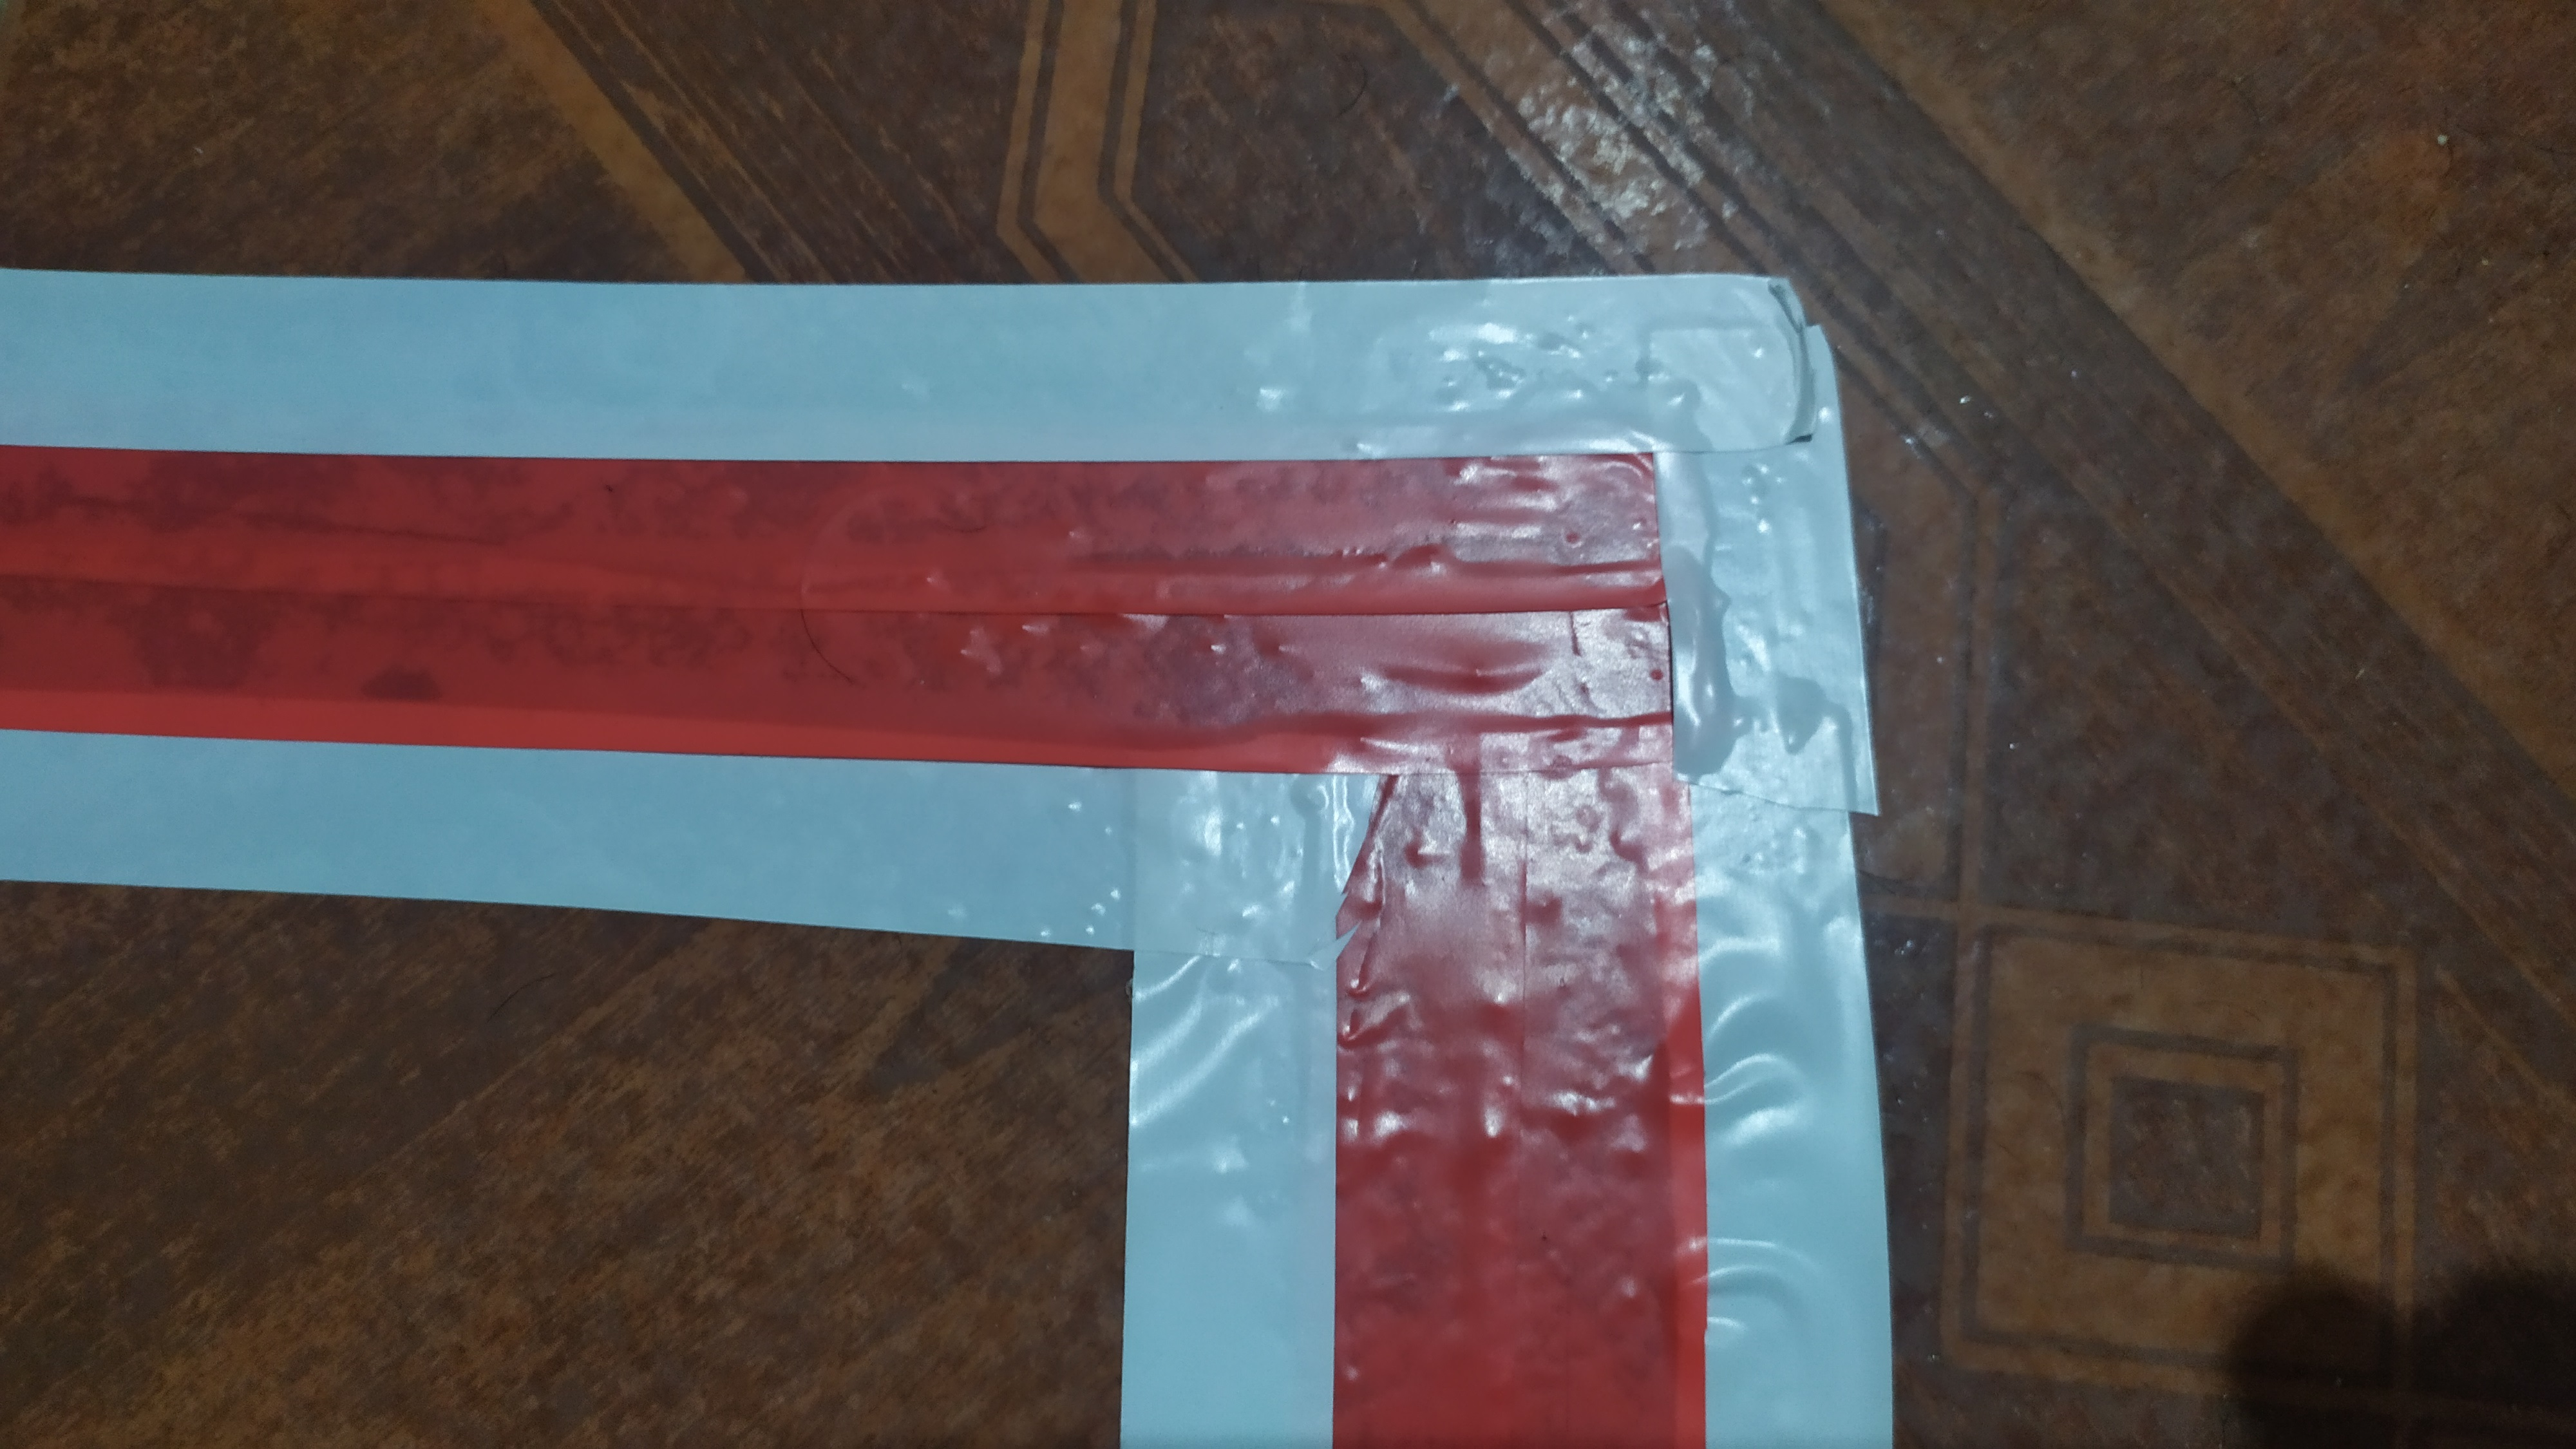faixa_esquerda: (9, 226, 1907, 1449)
